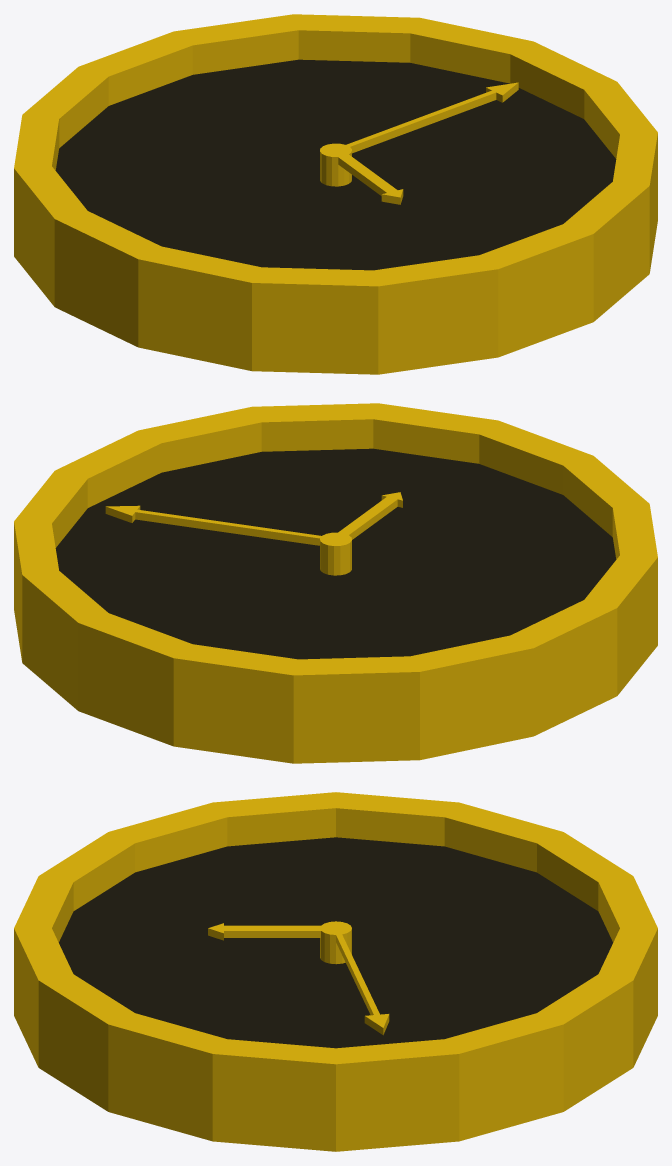
Rendered from powerup_clock.fbx.
3 renders of one model, top to bottom at view 1: azimuth 30°, elevation 25°; view 2: azimuth 150°, elevation 25°; view 3: azimuth 270°, elevation 25°, orthographic.
Parts seen in each view (by area): view 1: powerup_clock.001; view 2: powerup_clock.001; view 3: powerup_clock.001.
Boxes of the visible parts, x1,y1,x2,y2 form: powerup_clock.001: (14,14,657,374); powerup_clock.001: (14,403,657,763); powerup_clock.001: (14,792,657,1151).
Size of the model in its own units: 301 by 45.13 by 301.
